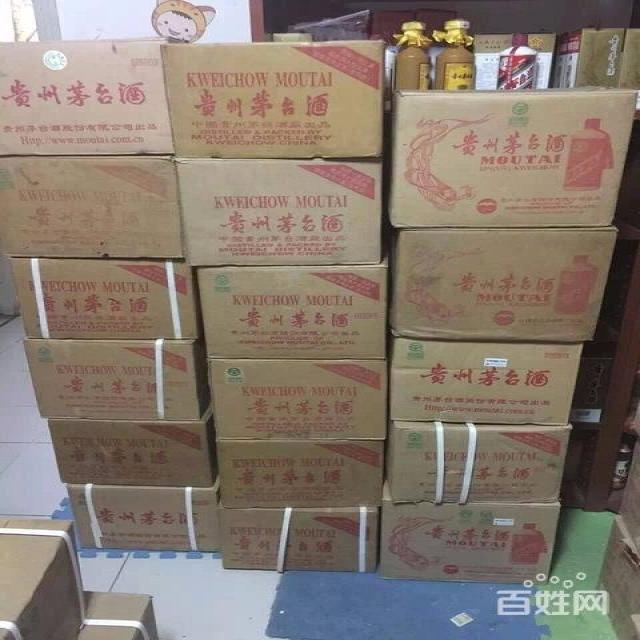box: (389, 86, 635, 228), (161, 41, 384, 157), (391, 226, 613, 342), (172, 158, 379, 266), (0, 38, 180, 155), (196, 267, 387, 361), (388, 338, 583, 425), (376, 489, 557, 582), (385, 421, 569, 504), (12, 260, 200, 339), (25, 338, 207, 418), (208, 357, 387, 438), (45, 408, 213, 489), (213, 438, 383, 508), (68, 478, 221, 551), (221, 500, 373, 573), (3, 521, 83, 639), (75, 588, 159, 639)
